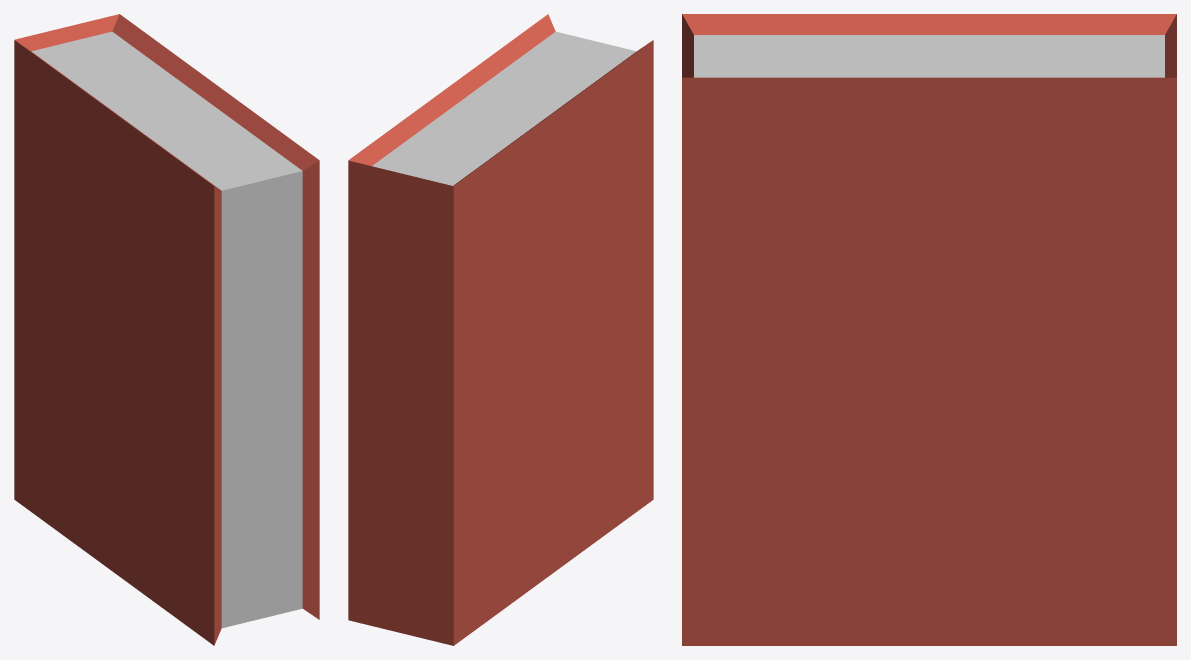
File: Red Book.fbx
3 views of the same model, side by side, from view 1: azimuth 30°, elevation 25°; view 2: azimuth 150°, elevation 25°; view 3: azimuth 270°, elevation 25° (orthographic). The views are drawn at different scales.
Visible parts, largest first — view 1: Cube; view 2: Cube; view 3: Cube.
Part boxes in pixels (x1,y1,x2,y2): Cube: (14, 14, 319, 645); Cube: (348, 14, 653, 645); Cube: (682, 14, 1176, 645).
Bounding box in the file's own units: 48.04 × 200 × 158.
